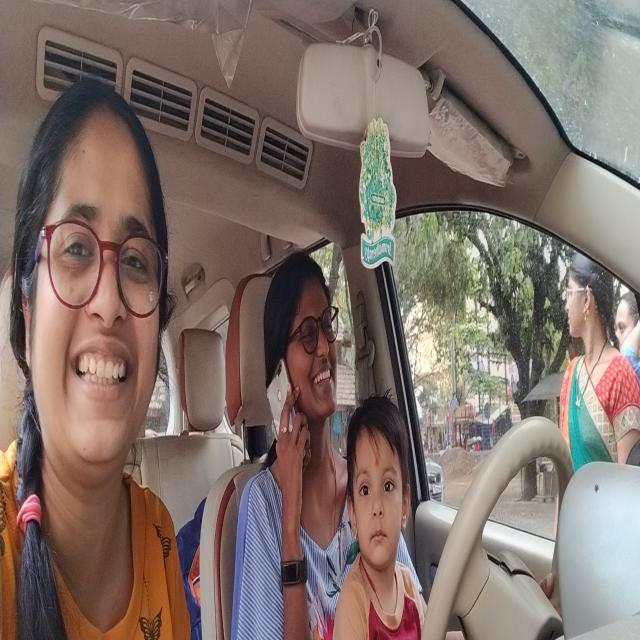child: (347, 415, 408, 569)
mobile: (260, 373, 292, 427)
person: (24, 93, 168, 473), (272, 251, 340, 416)
